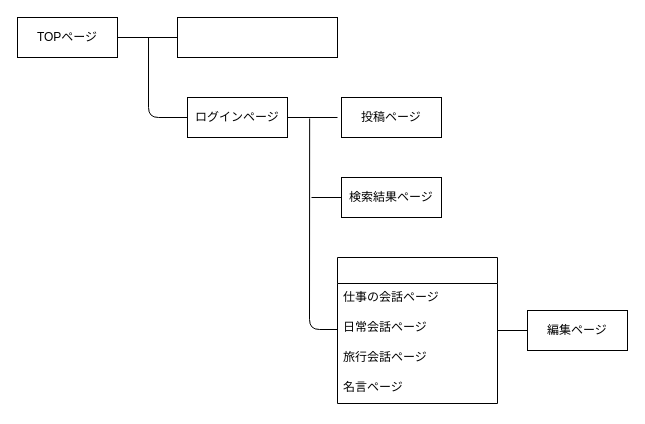
Image size: 645x424. Some labels were removed from this diagram. Each missing label, with the box of its shape:
カテゴリ別ページ: (336, 256, 498, 404)
ユーザー新規登録ページ: (176, 16, 338, 58)
